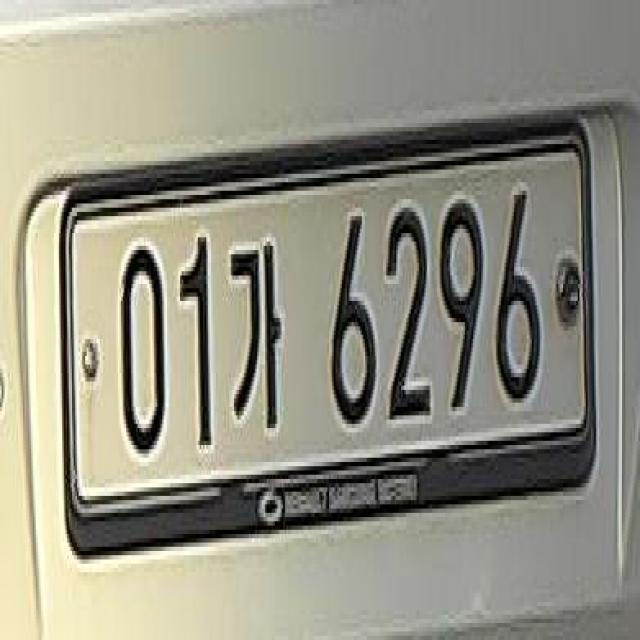illegal_plate: (56, 115, 606, 551)
